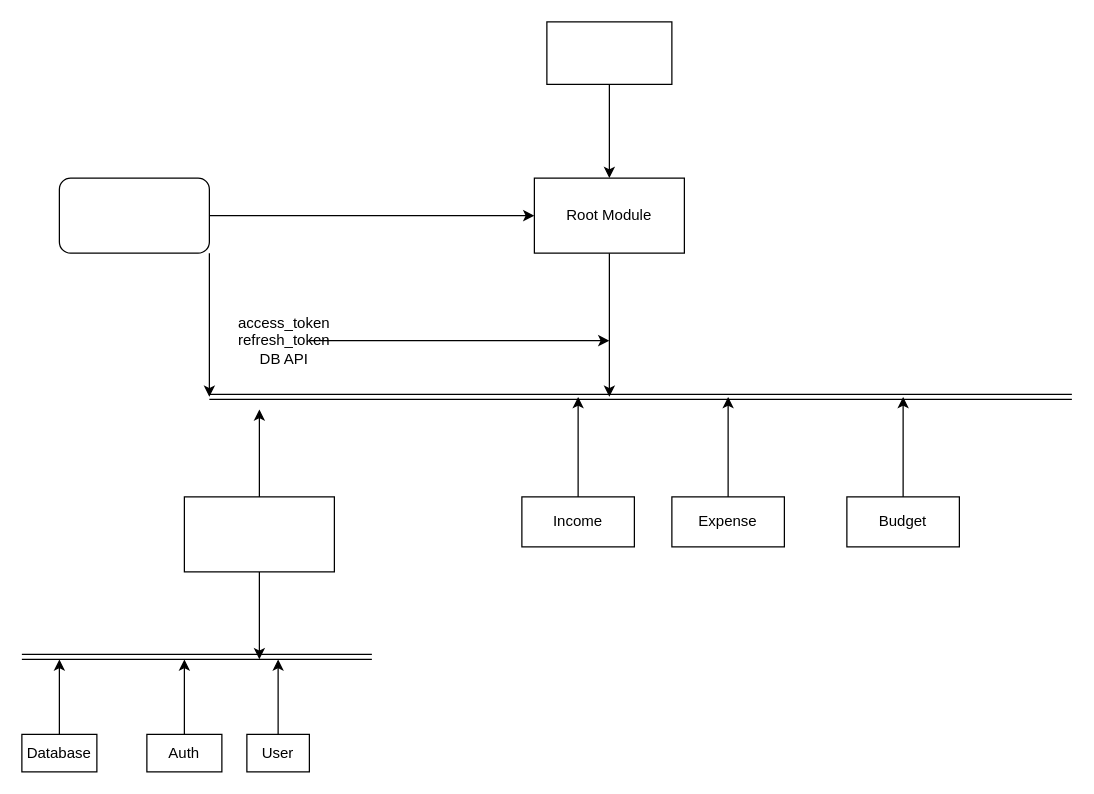
The diagram is 1094 pixels wide and 794 high, and some of its shapes have lost their labels. The shapes that lost their labels are listed below. From the top down, each one's box as (x1, y1, x2, y2) in pixels, then its label:
(546, 21, 672, 84): MoneyManager
(58, 177, 209, 253): Config
(183, 496, 334, 572): Core Modules
